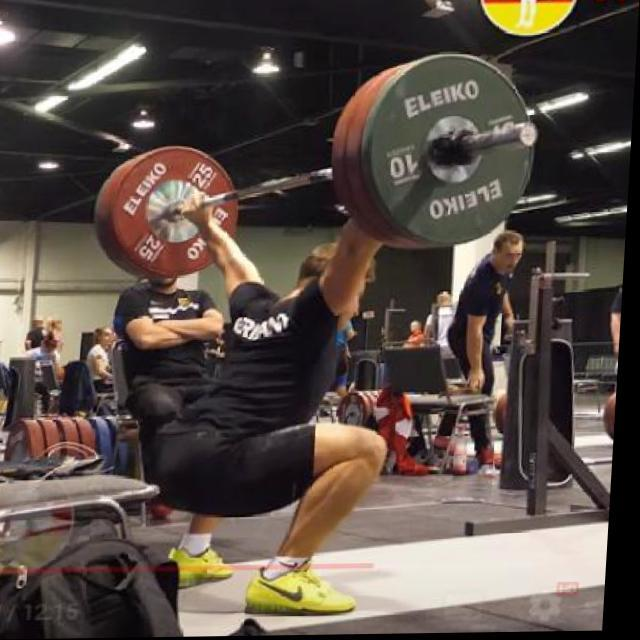barbell: (359, 51, 557, 256)
